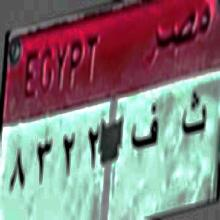2: (61, 130, 80, 174), (86, 120, 100, 174)
3: (35, 130, 53, 185)
8: (7, 146, 30, 198)
faa: (130, 101, 160, 155)
thaa: (180, 88, 209, 146)
